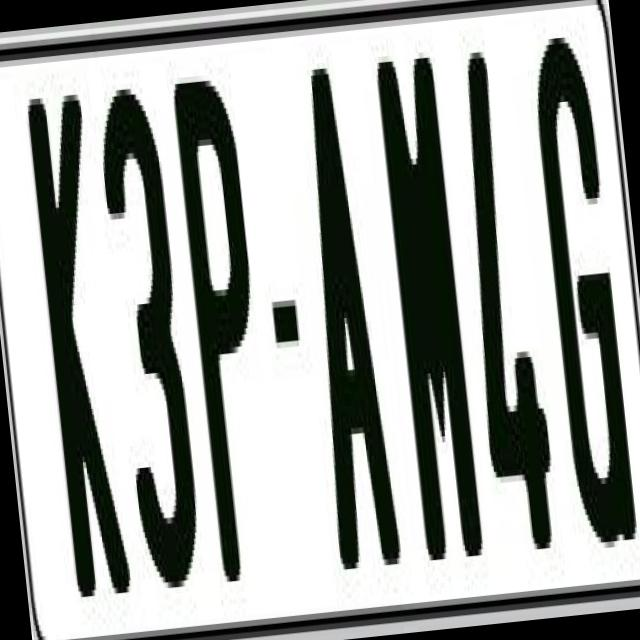3: (92, 68, 208, 578)
4: (442, 31, 562, 571)
A: (285, 59, 400, 582)
G: (524, 18, 638, 562)
K: (20, 81, 134, 586)
M: (371, 46, 482, 550)
P: (170, 67, 282, 588)
